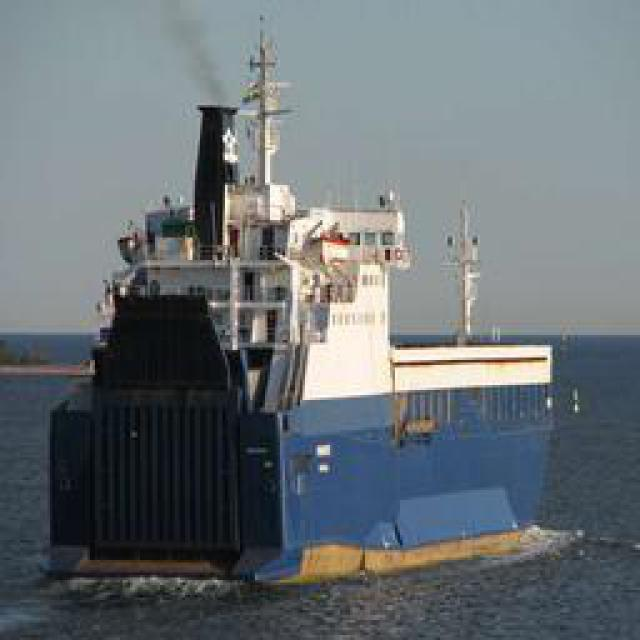Ship: (31, 14, 623, 598)
